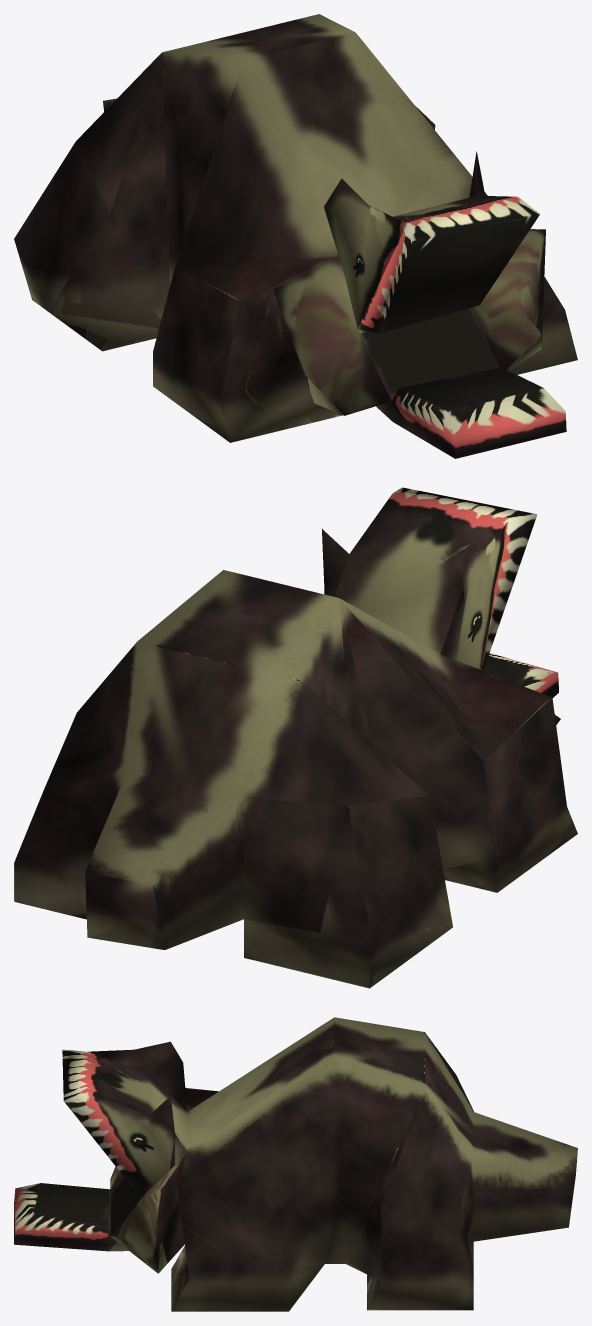
Rendered from protoBadger01.fbx.
The picture shows the model from 3 angles, top to bottom: view 1: azimuth 30°, elevation 25°; view 2: azimuth 150°, elevation 25°; view 3: azimuth 270°, elevation 25°; orthographic projection. The views are drawn at different scales.
Visible parts, largest first — view 1: badger; view 2: badger; view 3: badger.
Part boxes in pixels (<box>): badger: <box>14,14,577,458</box>; badger: <box>14,487,577,988</box>; badger: <box>14,1017,577,1311</box>.
Bounding box in the file's own units: 6.81 × 4.78 × 11.55.
1 material, 1 textured.
